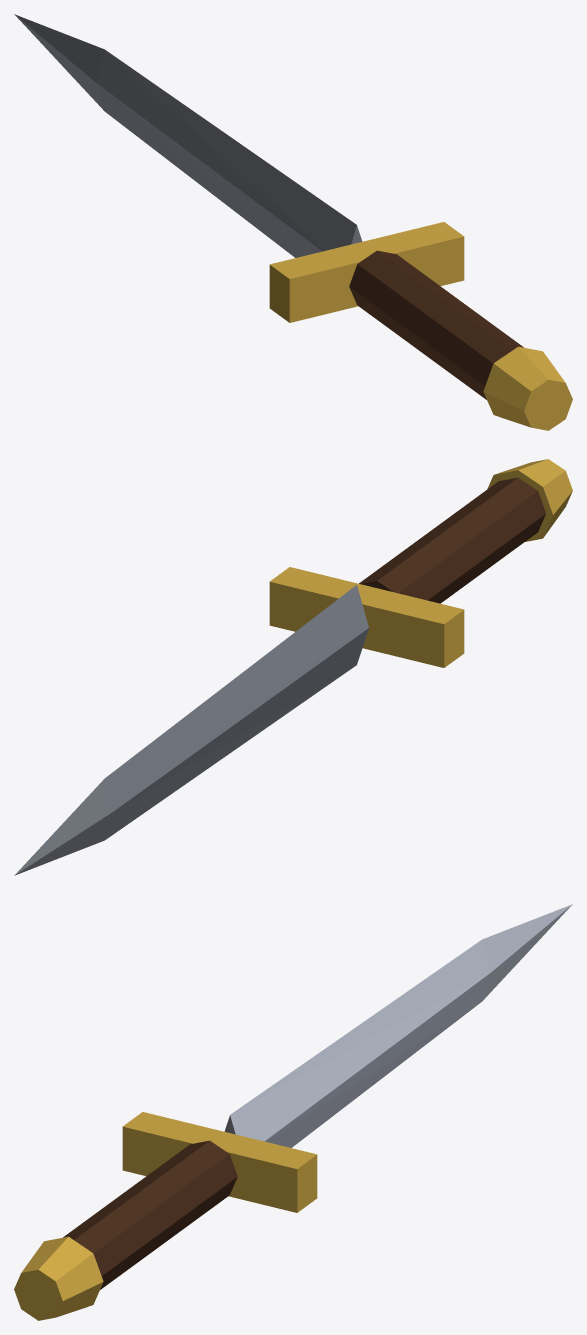
Rendered from dagger.glb.
The picture shows the model from 3 angles, top to bottom: view 1: azimuth 30°, elevation 25°; view 2: azimuth 150°, elevation 25°; view 3: azimuth 330°, elevation 25°; orthographic projection.
Visible parts, largest first — view 1: Dagger; view 2: Dagger; view 3: Dagger.
Boxes of the visible parts, x1,y1,x2,y2 form: Dagger: (14,14,572,430); Dagger: (14,459,572,875); Dagger: (14,904,572,1320).
Bounding box in the file's own units: 0.1 × 0.044 × 0.53.
